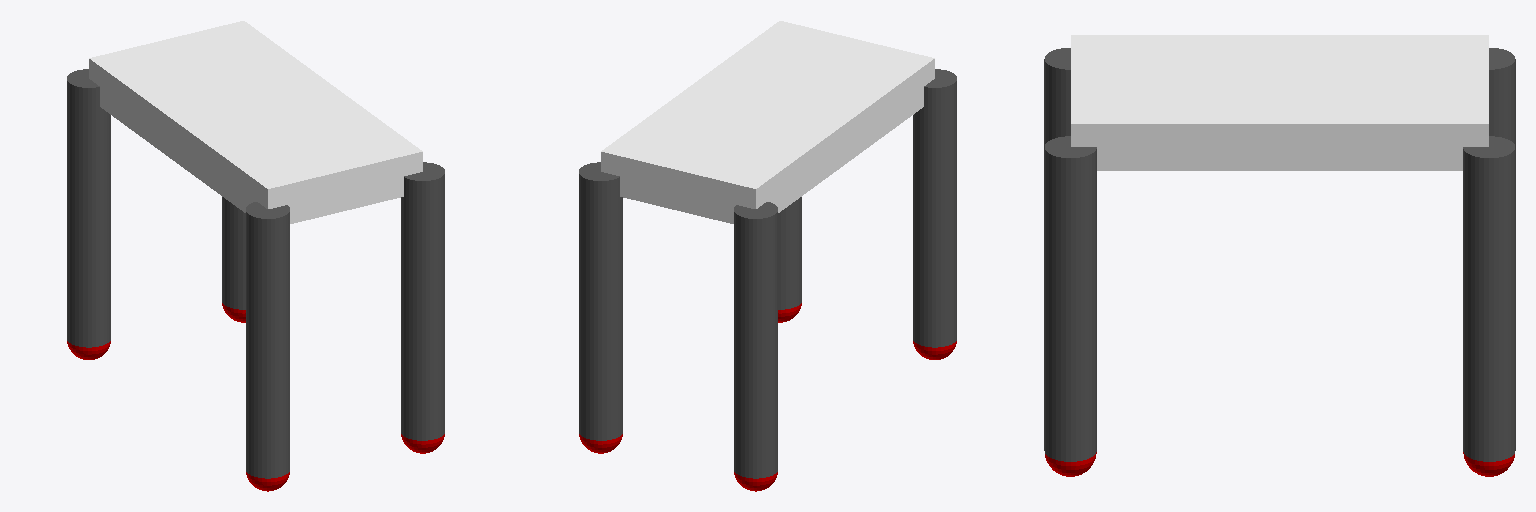
URDF robot description (quadroped):
<?xml version="1.0" encoding="utf-8"?>
<!-- =================================================================================== -->
<!-- |    This document was autogenerated by xacro from urdf/quadroped.xacro           | -->
<!-- |    EDITING THIS FILE BY HAND IS NOT RECOMMENDED                                 | -->
<!-- =================================================================================== -->
<robot name="quadroped" xmlns:controller="http://playerstage.sourceforge.net/gazebo/xmlschema/#controller" xmlns:interface="http://playerstage.sourceforge.net/gazebo/xmlschema/#interface" xmlns:sensor="http://playerstage.sourceforge.net/gazebo/xmlschema/#sensor" xmlns:xacro="http://playerstage.sourceforge.net/gazebo/xmlschema/#interface">
  <link name="base_link">
    <inertial>
      <origin rpy="0 0 0" xyz="0 0 0"/>
      <mass value="2.0"/>
      <inertia ixx="0.0270833333333" ixy="0" ixz="0" iyy="0.00708333333333" iyz="0" izz="0.0333333333333"/>
    </inertial>
    <visual>
      <origin rpy="0 0 0" xyz="0 0 0"/>
      <geometry>
        <box size="0.2 0.4 0.05"/>
      </geometry>
      <material name="white">
        <color rgba="1 1 1 1"/>
      </material>
    </visual>
    <collision>
      <origin rpy="0 0 0" xyz="0 0 0"/>
      <geometry>
        <box size="0.2 0.4 0.05"/>
      </geometry>
    </collision>
  </link>
  <!-- <xacro:leg prefix="FL" rx="${0.}" ry="${0.}"/> -->
  <joint name="FL_HFE" type="revolute">
    <parent link="base_link"/>
    <child link="FL_upperleg"/>
    <limit effort="1000" lower="-10" upper="10" velocity="1000"/>
    <axis xyz="1 0 0"/>
    <origin rpy="0 0 0" xyz="-0.1 0.2 0"/>
    <dynamics damping="0.0" friction="0.0"/>
  </joint>
  <link name="FL_upperleg">
    <visual>
      <origin rpy="0 0 0" xyz="0 0 -0.08"/>
      <geometry>
        <cylinder length="0.16" radius="0.025"/>
      </geometry>
      <material name="grey">
        <color rgba=".4 .4 .4 .1"/>
      </material>
    </visual>
    <collision>
      <origin rpy="0 0 0" xyz="0 0 -0.08"/>
      <geometry>
        <cylinder length="0.16" radius="0.025"/>
      </geometry>
    </collision>
    <inertial>
      <origin rpy="0 0 0" xyz="0 0 -0.0793"/>
      <mass value="0.162"/>
      <inertia ixx="0.000469609" ixy="0.0" ixz="0.0" iyy="0.000469609" iyz="0.0" izz="1e-6"/>
    </inertial>
  </link>
  <joint name="FL_KFE" type="revolute">
    <parent link="FL_upperleg"/>
    <child link="FL_shank"/>
    <limit effort="1000" velocity="10000"/>
    <axis xyz="1 0 0"/>
    <origin rpy="0 0 0" xyz="0 0 -0.16"/>
    <dynamics damping="0.0" friction="0.0"/>
  </joint>
  <link name="FL_shank">
    <visual>
      <origin rpy="0 0 0" xyz="0 0 -0.08"/>
      <geometry>
        <cylinder length="0.16" radius="0.025"/>
      </geometry>
      <material name="grey">
        <color rgba=".4 .4 .4 .1"/>
      </material>
    </visual>
    <collision>
      <origin rpy="0 0 0" xyz="0 0 -0.08"/>
      <geometry>
        <cylinder length="0.16" radius="0.025"/>
      </geometry>
    </collision>
    <inertial>
      <origin rpy="0 0 0" xyz="0 0 -0.0756"/>
      <mass value="0.021"/>
      <inertia ixx="0.000087575" ixy="0.0" ixz="0.0" iyy="0.000087575" iyz="0.0" izz="1e-6"/>
    </inertial>
  </link>
  <joint name="FL_END" type="fixed">
    <parent link="FL_shank"/>
    <child link="FL_contact"/>
    <origin rpy="0 0 0" xyz="0 0 -0.16"/>
  </joint>
  <link name="FL_contact">
    <contact>
      <lateral_friction value="1.0"/>
      <restitution value="0.5"/>
    </contact>
    <visual>
      <origin rpy="0 0 0" xyz="0 0 0"/>
      <geometry>
        <sphere radius="0.025"/>
      </geometry>
      <material name="red">
        <color rgba="1. 0. 0. 1."/>
      </material>
    </visual>
    <collision>
      <origin rpy="0 0 0" xyz="0 0 -0.08"/>
      <geometry>
        <sphere radius="0.0001"/>
      </geometry>
    </collision>
    <inertial>
      <mass value="0.01"/>
      <inertia ixx="0.01" ixy="0.0" ixz="0.0" iyy="0.01" iyz="0.0" izz="0.01"/>
    </inertial>
  </link>
  <joint name="FR_HFE" type="revolute">
    <parent link="base_link"/>
    <child link="FR_upperleg"/>
    <limit effort="1000" lower="-10" upper="10" velocity="1000"/>
    <axis xyz="1 0 0"/>
    <origin rpy="0 0 0" xyz="0.1 0.2 0"/>
    <dynamics damping="0.0" friction="0.0"/>
  </joint>
  <link name="FR_upperleg">
    <visual>
      <origin rpy="0 0 0" xyz="0 0 -0.08"/>
      <geometry>
        <cylinder length="0.16" radius="0.025"/>
      </geometry>
      <material name="grey">
        <color rgba=".4 .4 .4 .1"/>
      </material>
    </visual>
    <collision>
      <origin rpy="0 0 0" xyz="0 0 -0.08"/>
      <geometry>
        <cylinder length="0.16" radius="0.025"/>
      </geometry>
    </collision>
    <inertial>
      <origin rpy="0 0 0" xyz="0 0 -0.0793"/>
      <mass value="0.162"/>
      <inertia ixx="0.000469609" ixy="0.0" ixz="0.0" iyy="0.000469609" iyz="0.0" izz="1e-6"/>
    </inertial>
  </link>
  <joint name="FR_KFE" type="revolute">
    <parent link="FR_upperleg"/>
    <child link="FR_shank"/>
    <limit effort="1000" velocity="10000"/>
    <axis xyz="1 0 0"/>
    <origin rpy="0 0 0" xyz="0 0 -0.16"/>
    <dynamics damping="0.0" friction="0.0"/>
  </joint>
  <link name="FR_shank">
    <visual>
      <origin rpy="0 0 0" xyz="0 0 -0.08"/>
      <geometry>
        <cylinder length="0.16" radius="0.025"/>
      </geometry>
      <material name="grey">
        <color rgba=".4 .4 .4 .1"/>
      </material>
    </visual>
    <collision>
      <origin rpy="0 0 0" xyz="0 0 -0.08"/>
      <geometry>
        <cylinder length="0.16" radius="0.025"/>
      </geometry>
    </collision>
    <inertial>
      <origin rpy="0 0 0" xyz="0 0 -0.0756"/>
      <mass value="0.021"/>
      <inertia ixx="0.000087575" ixy="0.0" ixz="0.0" iyy="0.000087575" iyz="0.0" izz="1e-6"/>
    </inertial>
  </link>
  <joint name="FR_END" type="fixed">
    <parent link="FR_shank"/>
    <child link="FR_contact"/>
    <origin rpy="0 0 0" xyz="0 0 -0.16"/>
  </joint>
  <link name="FR_contact">
    <contact>
      <lateral_friction value="1.0"/>
      <restitution value="0.5"/>
    </contact>
    <visual>
      <origin rpy="0 0 0" xyz="0 0 0"/>
      <geometry>
        <sphere radius="0.025"/>
      </geometry>
      <material name="red">
        <color rgba="1. 0. 0. 1."/>
      </material>
    </visual>
    <collision>
      <origin rpy="0 0 0" xyz="0 0 -0.08"/>
      <geometry>
        <sphere radius="0.0001"/>
      </geometry>
    </collision>
    <inertial>
      <mass value="0.01"/>
      <inertia ixx="0.01" ixy="0.0" ixz="0.0" iyy="0.01" iyz="0.0" izz="0.01"/>
    </inertial>
  </link>
  <joint name="BL_HFE" type="revolute">
    <parent link="base_link"/>
    <child link="BL_upperleg"/>
    <limit effort="1000" lower="-10" upper="10" velocity="1000"/>
    <axis xyz="1 0 0"/>
    <origin rpy="0 0 0" xyz="-0.1 -0.2 0"/>
    <dynamics damping="0.0" friction="0.0"/>
  </joint>
  <link name="BL_upperleg">
    <visual>
      <origin rpy="0 0 0" xyz="0 0 -0.08"/>
      <geometry>
        <cylinder length="0.16" radius="0.025"/>
      </geometry>
      <material name="grey">
        <color rgba=".4 .4 .4 .1"/>
      </material>
    </visual>
    <collision>
      <origin rpy="0 0 0" xyz="0 0 -0.08"/>
      <geometry>
        <cylinder length="0.16" radius="0.025"/>
      </geometry>
    </collision>
    <inertial>
      <origin rpy="0 0 0" xyz="0 0 -0.0793"/>
      <mass value="0.162"/>
      <inertia ixx="0.000469609" ixy="0.0" ixz="0.0" iyy="0.000469609" iyz="0.0" izz="1e-6"/>
    </inertial>
  </link>
  <joint name="BL_KFE" type="revolute">
    <parent link="BL_upperleg"/>
    <child link="BL_shank"/>
    <limit effort="1000" velocity="10000"/>
    <axis xyz="1 0 0"/>
    <origin rpy="0 0 0" xyz="0 0 -0.16"/>
    <dynamics damping="0.0" friction="0.0"/>
  </joint>
  <link name="BL_shank">
    <visual>
      <origin rpy="0 0 0" xyz="0 0 -0.08"/>
      <geometry>
        <cylinder length="0.16" radius="0.025"/>
      </geometry>
      <material name="grey">
        <color rgba=".4 .4 .4 .1"/>
      </material>
    </visual>
    <collision>
      <origin rpy="0 0 0" xyz="0 0 -0.08"/>
      <geometry>
        <cylinder length="0.16" radius="0.025"/>
      </geometry>
    </collision>
    <inertial>
      <origin rpy="0 0 0" xyz="0 0 -0.0756"/>
      <mass value="0.021"/>
      <inertia ixx="0.000087575" ixy="0.0" ixz="0.0" iyy="0.000087575" iyz="0.0" izz="1e-6"/>
    </inertial>
  </link>
  <joint name="BL_END" type="fixed">
    <parent link="BL_shank"/>
    <child link="BL_contact"/>
    <origin rpy="0 0 0" xyz="0 0 -0.16"/>
  </joint>
  <link name="BL_contact">
    <contact>
      <lateral_friction value="1.0"/>
      <restitution value="0.5"/>
    </contact>
    <visual>
      <origin rpy="0 0 0" xyz="0 0 0"/>
      <geometry>
        <sphere radius="0.025"/>
      </geometry>
      <material name="red">
        <color rgba="1. 0. 0. 1."/>
      </material>
    </visual>
    <collision>
      <origin rpy="0 0 0" xyz="0 0 -0.08"/>
      <geometry>
        <sphere radius="0.0001"/>
      </geometry>
    </collision>
    <inertial>
      <mass value="0.01"/>
      <inertia ixx="0.01" ixy="0.0" ixz="0.0" iyy="0.01" iyz="0.0" izz="0.01"/>
    </inertial>
  </link>
  <joint name="BR_HFE" type="revolute">
    <parent link="base_link"/>
    <child link="BR_upperleg"/>
    <limit effort="1000" lower="-10" upper="10" velocity="1000"/>
    <axis xyz="1 0 0"/>
    <origin rpy="0 0 0" xyz="0.1 -0.2 0"/>
    <dynamics damping="0.0" friction="0.0"/>
  </joint>
  <link name="BR_upperleg">
    <visual>
      <origin rpy="0 0 0" xyz="0 0 -0.08"/>
      <geometry>
        <cylinder length="0.16" radius="0.025"/>
      </geometry>
      <material name="grey">
        <color rgba=".4 .4 .4 .1"/>
      </material>
    </visual>
    <collision>
      <origin rpy="0 0 0" xyz="0 0 -0.08"/>
      <geometry>
        <cylinder length="0.16" radius="0.025"/>
      </geometry>
    </collision>
    <inertial>
      <origin rpy="0 0 0" xyz="0 0 -0.0793"/>
      <mass value="0.162"/>
      <inertia ixx="0.000469609" ixy="0.0" ixz="0.0" iyy="0.000469609" iyz="0.0" izz="1e-6"/>
    </inertial>
  </link>
  <joint name="BR_KFE" type="revolute">
    <parent link="BR_upperleg"/>
    <child link="BR_shank"/>
    <limit effort="1000" velocity="10000"/>
    <axis xyz="1 0 0"/>
    <origin rpy="0 0 0" xyz="0 0 -0.16"/>
    <dynamics damping="0.0" friction="0.0"/>
  </joint>
  <link name="BR_shank">
    <visual>
      <origin rpy="0 0 0" xyz="0 0 -0.08"/>
      <geometry>
        <cylinder length="0.16" radius="0.025"/>
      </geometry>
      <material name="grey">
        <color rgba=".4 .4 .4 .1"/>
      </material>
    </visual>
    <collision>
      <origin rpy="0 0 0" xyz="0 0 -0.08"/>
      <geometry>
        <cylinder length="0.16" radius="0.025"/>
      </geometry>
    </collision>
    <inertial>
      <origin rpy="0 0 0" xyz="0 0 -0.0756"/>
      <mass value="0.021"/>
      <inertia ixx="0.000087575" ixy="0.0" ixz="0.0" iyy="0.000087575" iyz="0.0" izz="1e-6"/>
    </inertial>
  </link>
  <joint name="BR_END" type="fixed">
    <parent link="BR_shank"/>
    <child link="BR_contact"/>
    <origin rpy="0 0 0" xyz="0 0 -0.16"/>
  </joint>
  <link name="BR_contact">
    <contact>
      <lateral_friction value="1.0"/>
      <restitution value="0.5"/>
    </contact>
    <visual>
      <origin rpy="0 0 0" xyz="0 0 0"/>
      <geometry>
        <sphere radius="0.025"/>
      </geometry>
      <material name="red">
        <color rgba="1. 0. 0. 1."/>
      </material>
    </visual>
    <collision>
      <origin rpy="0 0 0" xyz="0 0 -0.08"/>
      <geometry>
        <sphere radius="0.0001"/>
      </geometry>
    </collision>
    <inertial>
      <mass value="0.01"/>
      <inertia ixx="0.01" ixy="0.0" ixz="0.0" iyy="0.01" iyz="0.0" izz="0.01"/>
    </inertial>
  </link>
</robot>

--- Render facts (derived) ---
The picture shows the robot from 3 angles, left to right: view 1: azimuth 30°, elevation 25°; view 2: azimuth 150°, elevation 25°; view 3: azimuth 270°, elevation 25°; orthographic projection.
Robot: quadroped — 13 links, 12 joints (8 revolute, 4 fixed); root link base_link; default pose: every joint at zero.
Links seen in each view (by area): view 1: base_link, BL_upperleg, BR_upperleg, FL_upperleg, BR_shank, FL_shank, BL_shank, FR_shank; view 2: base_link, FL_upperleg, FR_upperleg, BL_upperleg, FR_shank, BL_shank, FL_shank, BR_shank; view 3: base_link, FR_upperleg, BR_upperleg, FR_shank, BR_shank, FL_upperleg, BL_upperleg, FR_contact, BR_contact.
Link boxes in pixels (left/top/right/bottom): base_link: left=89, top=21, right=422, bottom=223; BL_upperleg: left=246, top=202, right=289, bottom=348; BR_upperleg: left=401, top=162, right=444, bottom=310; FL_upperleg: left=67, top=69, right=110, bottom=217; BR_shank: left=401, top=304, right=444, bottom=440; FL_shank: left=67, top=211, right=110, bottom=347; BL_shank: left=246, top=342, right=289, bottom=478; FR_shank: left=222, top=197, right=245, bottom=309; base_link: left=601, top=21, right=934, bottom=223; FL_upperleg: left=734, top=202, right=777, bottom=348; FR_upperleg: left=579, top=162, right=622, bottom=310; BL_upperleg: left=913, top=69, right=956, bottom=217; FR_shank: left=579, top=304, right=622, bottom=440; BL_shank: left=913, top=211, right=956, bottom=347; FL_shank: left=734, top=342, right=777, bottom=478; BR_shank: left=778, top=197, right=801, bottom=309; base_link: left=1071, top=35, right=1488, bottom=170; FR_upperleg: left=1463, top=136, right=1515, bottom=309; BR_upperleg: left=1044, top=136, right=1096, bottom=309; FR_shank: left=1463, top=299, right=1515, bottom=461; BR_shank: left=1044, top=299, right=1096, bottom=461; FL_upperleg: left=1489, top=48, right=1515, bottom=146; BL_upperleg: left=1044, top=48, right=1070, bottom=146; FR_contact: left=1463, top=452, right=1514, bottom=476; BR_contact: left=1045, top=452, right=1096, bottom=476.
Bounding box of the posed robot: 0.25 × 0.45 × 0.37 m (x, y, z).
Geometry: primitives only (box / cylinder / sphere), no mesh files.